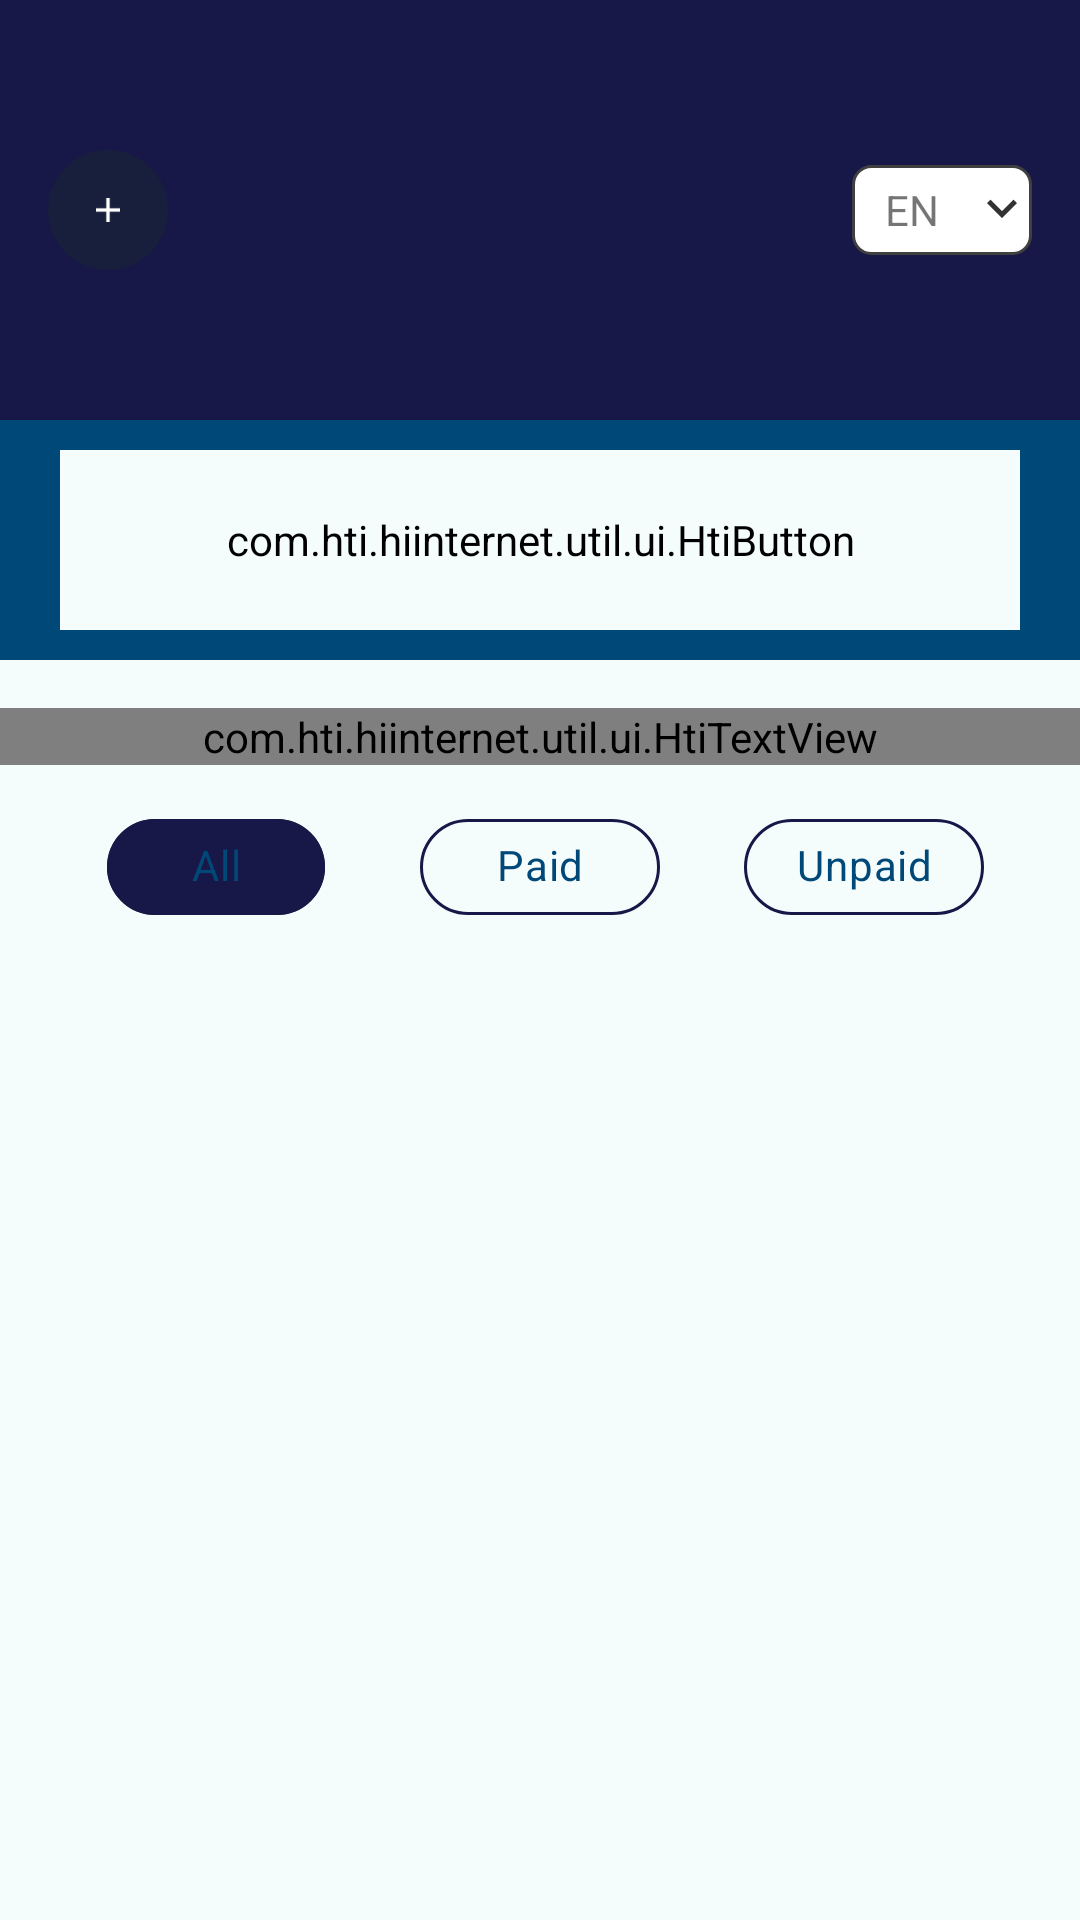

Screen size 1080px x 1920px. Icon name, then its center in pixels as (x,y):
add: (108,210)
